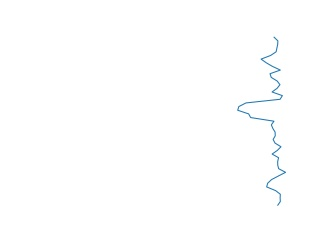interdistributaryEstuary: (235, 36, 292, 206)
